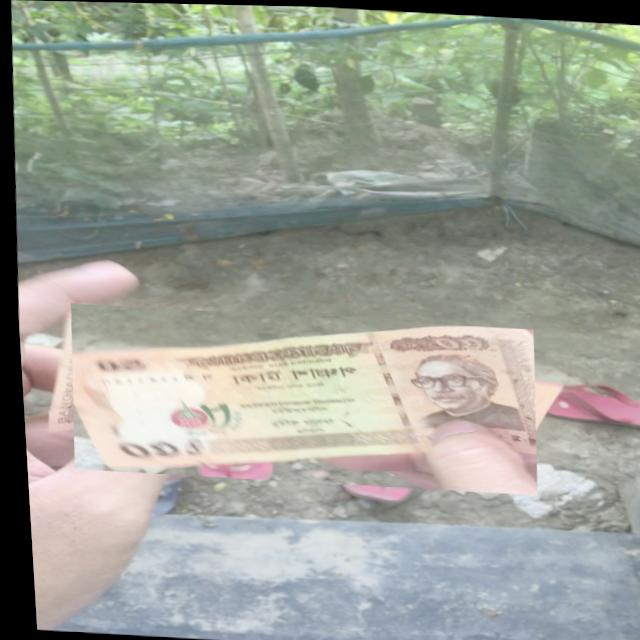Taka: (61, 303, 537, 493)
